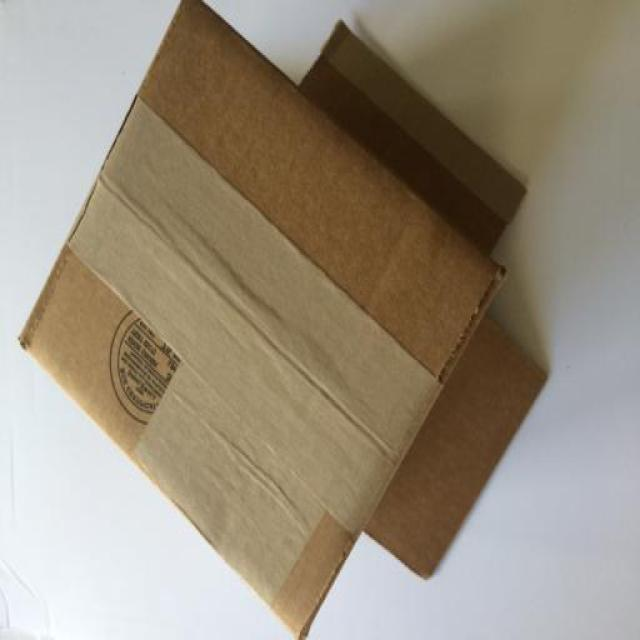cardboard: (19, 0, 545, 640)
